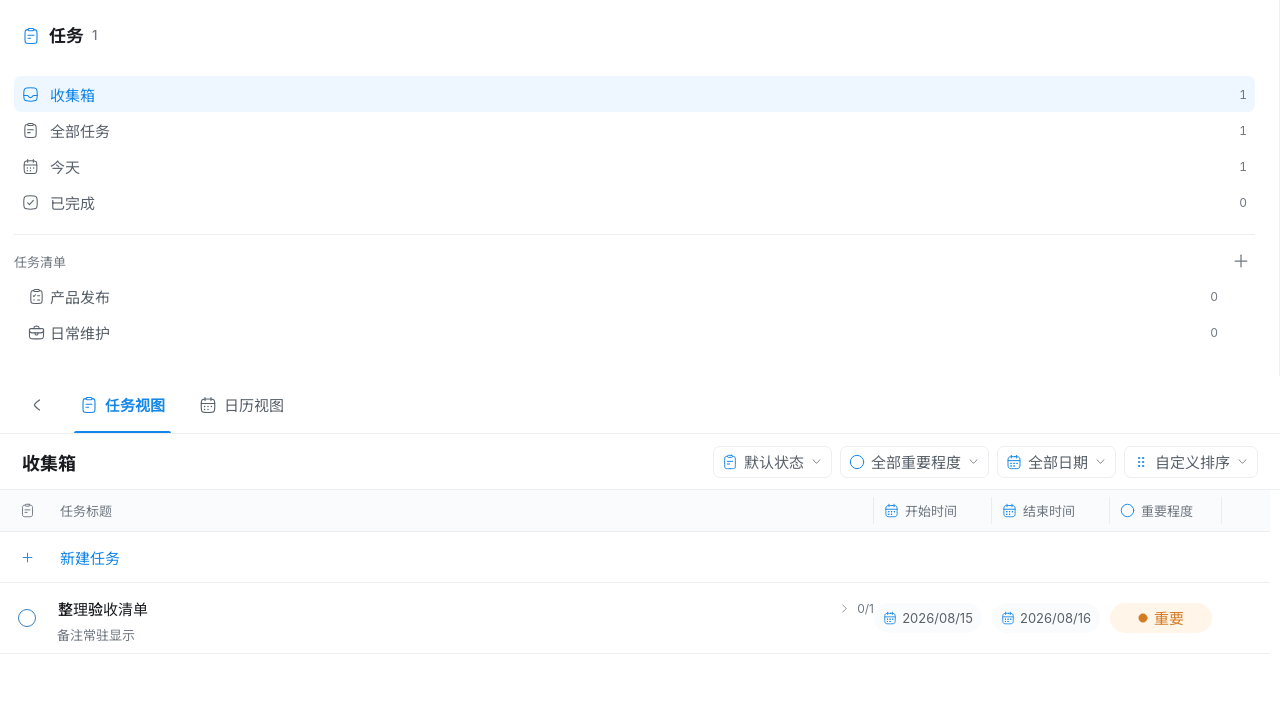
Test case: TaskWorkspace › renders system scopes, persistent notes, and light subtasks
expect the field showing "整理验收清单" is shown: met, box [50,591,832,625]
expect the 1st text "收集箱" is shown: met, box [50,86,95,104]
Click the button named "展开子任务".
click(843, 608)  # box [832,597,854,619]
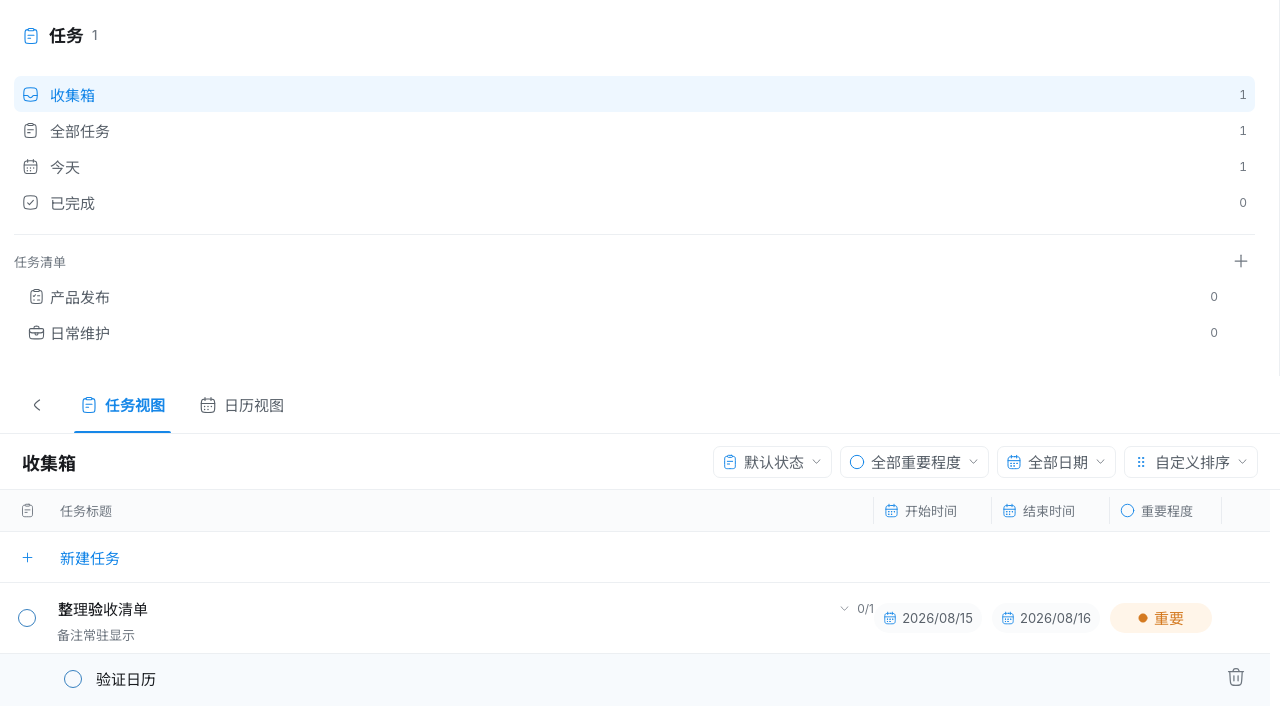
expect the 2nd field showing "验证日历" is shown: met, box [94,668,1212,690]
